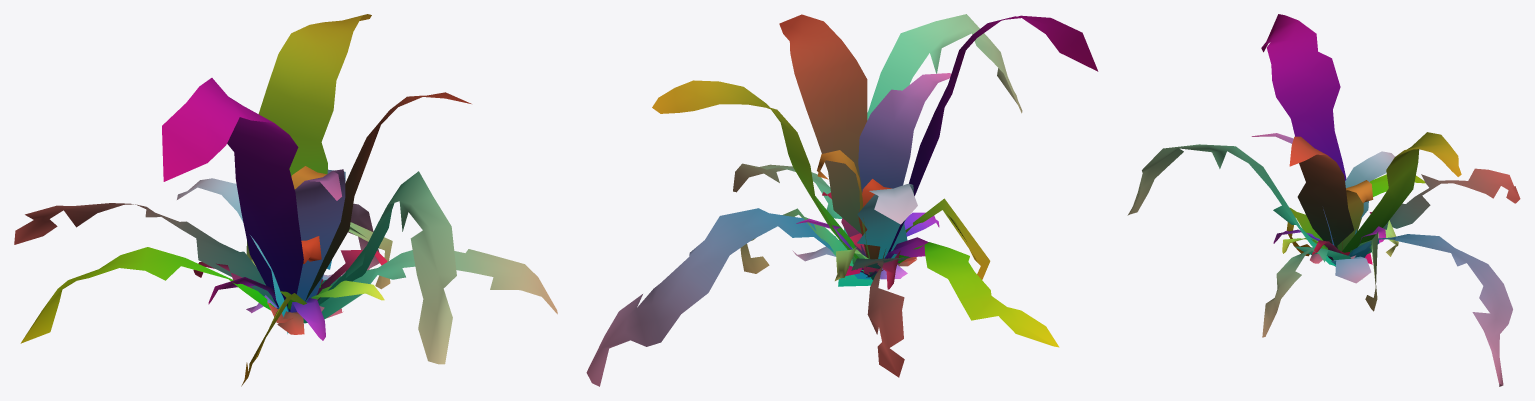
File: Fern_sbslY_High_sbslY_VarA_LOD1.fbx
The picture shows the model from 3 angles, left to right: view 1: azimuth 30°, elevation 25°; view 2: azimuth 150°, elevation 25°; view 3: azimuth 270°, elevation 25°; orthographic projection. The views are drawn at different scales.
Parts seen in each view (by area): view 1: _8fc2_VarA_LOD1; view 2: _8fc2_VarA_LOD1; view 3: _8fc2_VarA_LOD1.
Boxes of the visible parts, <box> form: _8fc2_VarA_LOD1: <box>14,14,557,386</box>; _8fc2_VarA_LOD1: <box>586,14,1098,386</box>; _8fc2_VarA_LOD1: <box>1127,14,1520,386</box>.
Size of the model in its own units: 136 by 109 by 149.
